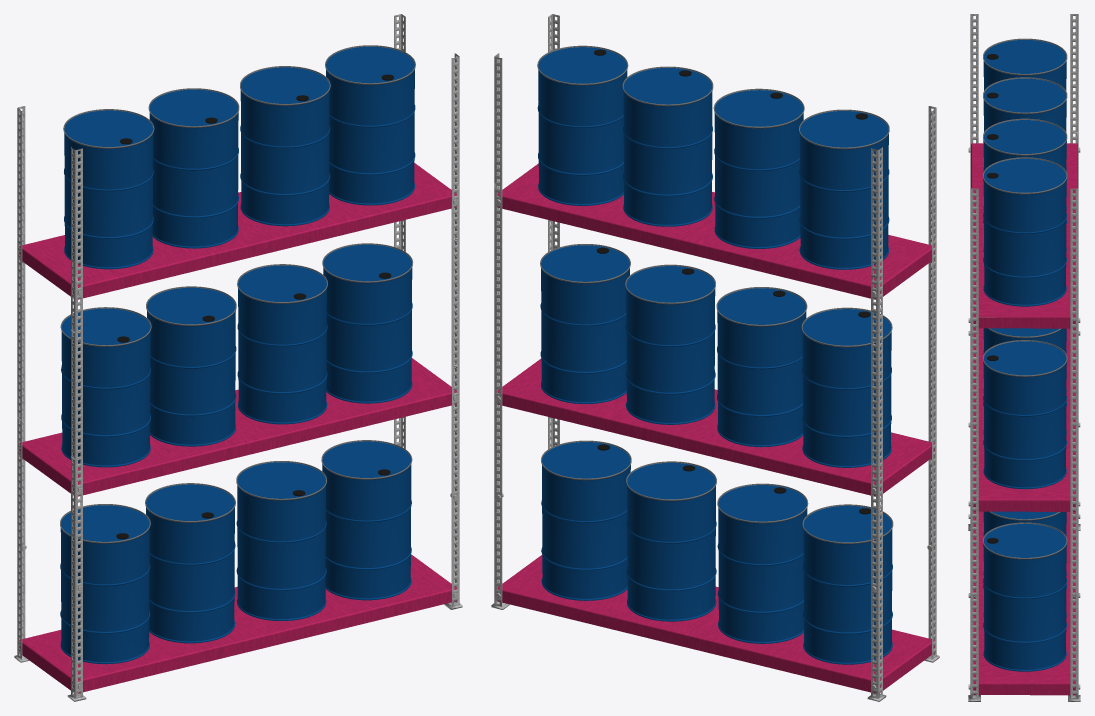
Rendered from ShelfWithDrums.glb.
3 views of the same model, side by side, from view 1: azimuth 30°, elevation 25°; view 2: azimuth 150°, elevation 25°; view 3: azimuth 270°, elevation 25° (orthographic). The views are drawn at different scales.
Visible parts, largest first — view 1: Shelves_Brushed metal_0.001, Shelves, Object_2.011, Object_2.007, Object_2.003, Object_2.010, Object_2.004, Object_2, Object_2.008, Object_2.002, Object_2.006, Object_2.009 (+2 smaller); view 2: Shelves_Brushed metal_0.001, Shelves, Object_2.011, Object_2.003, Object_2.007, Object_2.002, Object_2, Object_2.010, Object_2.006, Object_2.004, Object_2.008, Object_2.009 (+2 smaller); view 3: Shelves_Brushed metal_0.001, Object_2.010, Object_2.002, Object_2.006, Shelves, Object_2.008, Object_2.011, Object_2.009, Object_2.007, Object_2.003.
Part boxes in pixels (x1,y1,x2,y2): Shelves_Brushed metal_0.001: (19, 163, 456, 693); Shelves: (14, 14, 462, 701); Object_2.011: (240, 66, 330, 226); Object_2.007: (237, 264, 327, 424); Object_2.003: (236, 461, 326, 620); Object_2.010: (325, 45, 415, 205); Object_2.004: (146, 286, 236, 446); Object_2: (145, 483, 235, 643); Object_2.008: (148, 88, 239, 248); Object_2.002: (321, 440, 412, 600); Object_2.006: (322, 243, 413, 403); Object_2.009: (63, 109, 154, 269); Shelves_Brushed metal_0.001: (497, 163, 934, 693); Shelves: (491, 14, 939, 701); Object_2.011: (622, 66, 713, 226); Object_2.003: (626, 461, 716, 621); Object_2.007: (625, 264, 715, 424); Object_2.002: (541, 440, 631, 600); Object_2: (717, 483, 808, 643); Object_2.010: (537, 45, 628, 205); Object_2.006: (540, 244, 630, 403); Object_2.004: (716, 287, 807, 447); Object_2.008: (713, 88, 804, 248); Object_2.009: (799, 109, 889, 269); Shelves_Brushed metal_0.001: (971, 143, 1077, 695); Object_2.010: (983, 157, 1067, 306); Object_2.002: (983, 522, 1067, 671); Object_2.006: (983, 340, 1067, 489); Shelves: (968, 14, 1080, 701); Object_2.008: (983, 77, 1067, 210); Object_2.011: (983, 118, 1067, 251); Object_2.009: (983, 38, 1067, 171); Object_2.007: (983, 328, 1066, 434); Object_2.003: (983, 511, 1066, 616).
Bounding box in the file's own units: 8.66 × 11.73 × 2.33.
Materials: 3 (3 with a texture image).
